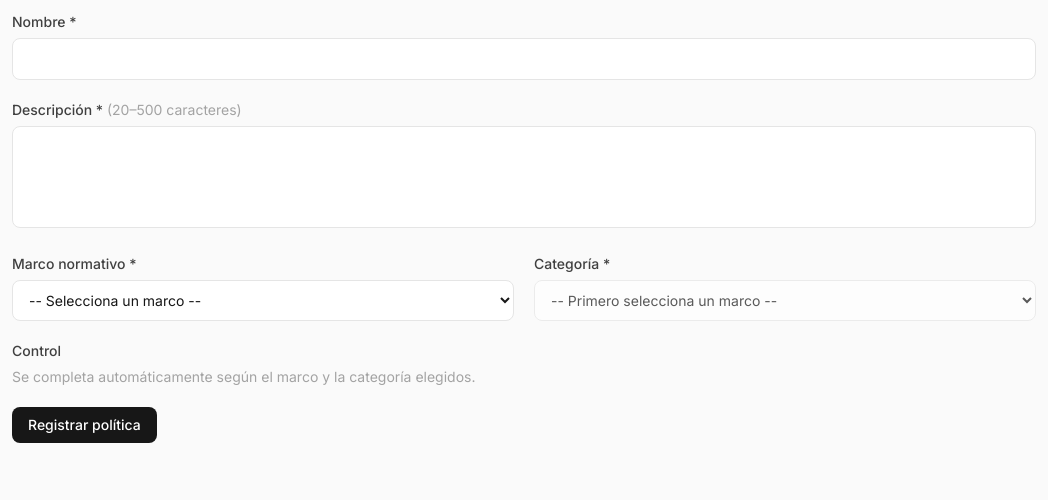
it: PolicyCreateForm › shows validation error when description is too short
Type "Política test" into the field labelled "Nombre *" at (524, 59), box [12,38,1036,80]
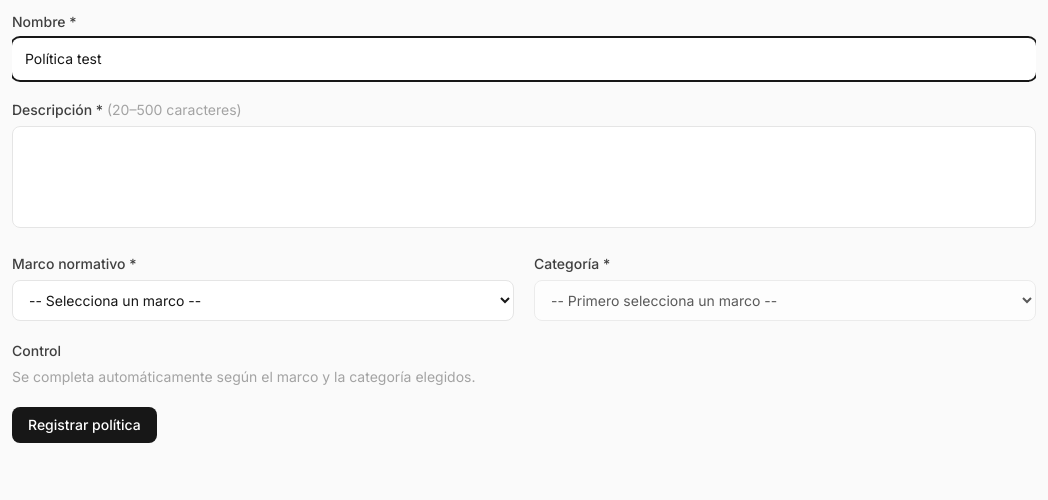
Type "Corta" into the text box labelled "Descripción * (20–500 caracteres)" at (524, 177), box [12,126,1036,228]
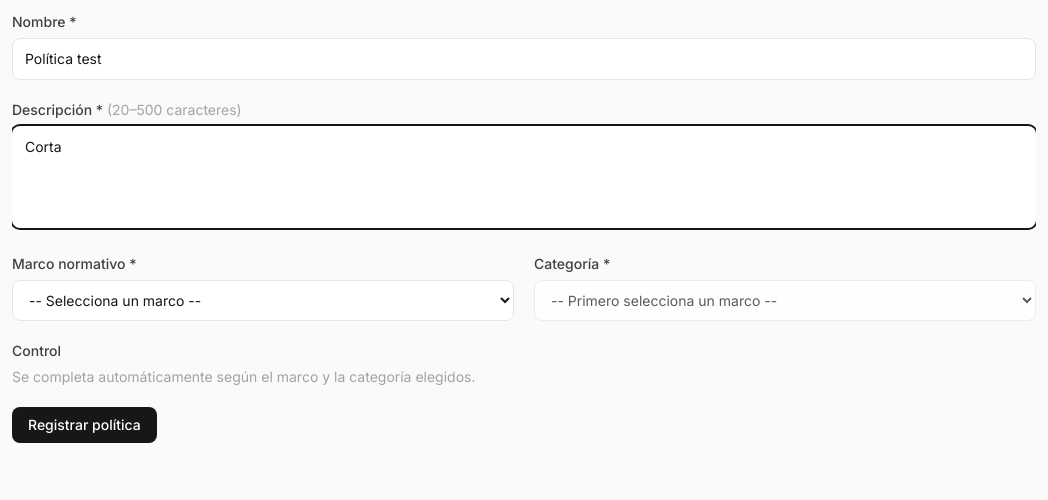
Click the button "Registrar política" at (84, 425), box [12,407,157,443]
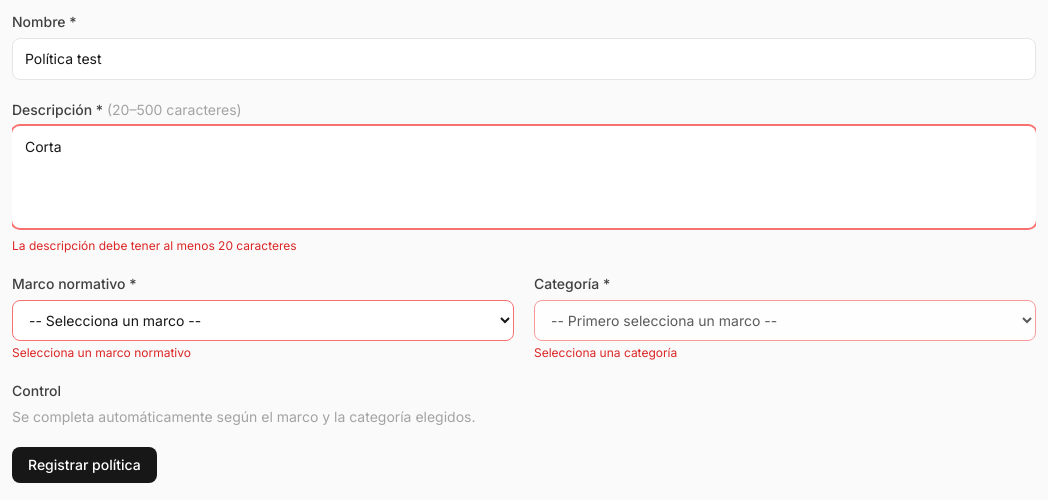
Check: the text "La descripción debe tener al menos 20 caracteres" is shown, box [12,238,297,253]
